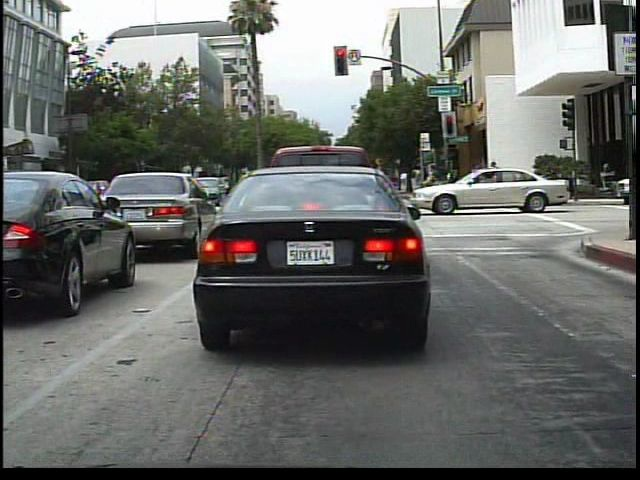person: (425, 160, 456, 210), (467, 158, 485, 199), (489, 158, 506, 198)
